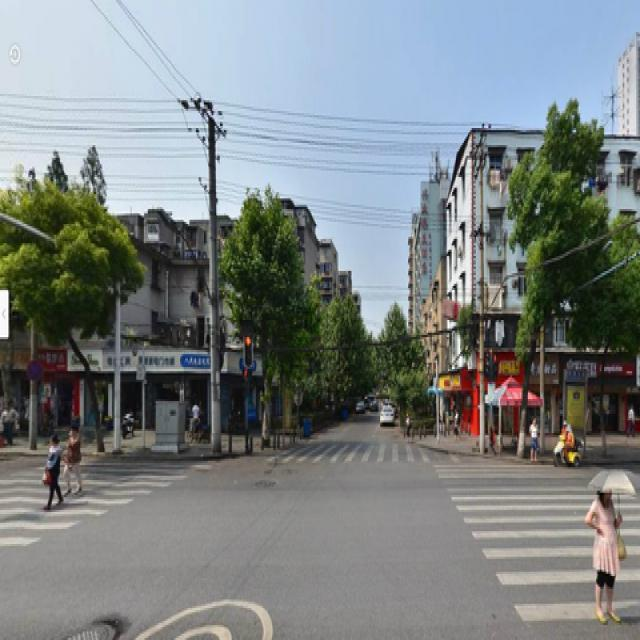cinn: (32, 192, 107, 452)
meta: (239, 201, 301, 444)
